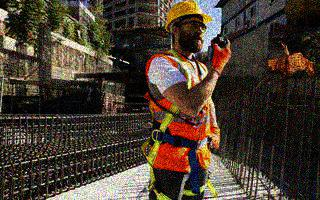helmet: (165, 1, 212, 54)
